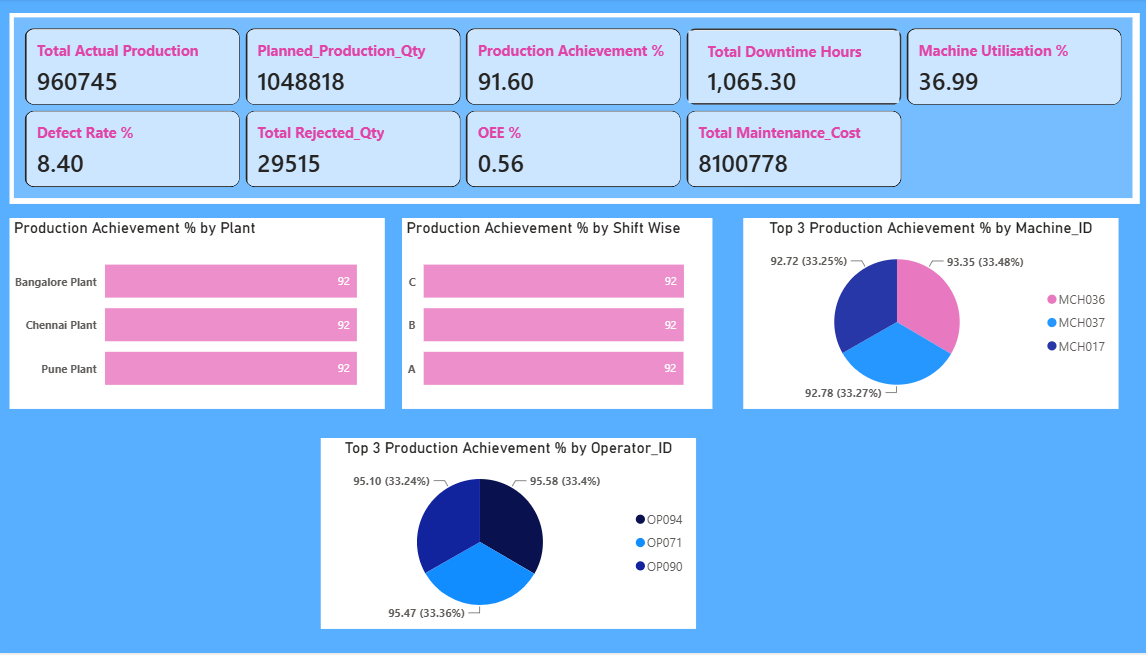

Layout of this report page (visuals, bound fields, positions):
{"tool":"powerbi","page":{"name":"Page 1","canvas":[1280,720],"ordinal":0},"visuals":[{"type":"cardVisual","fields":{"Data":["Production Log.Total Actual Production","Sum(Production Log.Planned_Production_Qty)","Production Log.Production Achievement %","Downtime Log.Total Downtime Hours","Downtime Log.Machine Utilisation %","Quality Inspection Log.Defect Rate %","Sum(Production Log.Rejected_Qty)","Shift Calendar.OEE","Sum(Maintenance Records.Maintenance_Cost)"]},"box":[19.2,16.5,1240.5,209.9],"z":0},{"type":"barChart","fields":{"Category":["Downtime Log.Plant"],"Y":["Production Log.Production Achievement %"]},"box":[18.5,240.9,411.9,209.5],"z":1000},{"type":"barChart","title":"Production Achievement % by Shift Wise","fields":{"Y":["Production Log.Production Achievement %"],"Category":["Shift Calendar.Shift"]},"box":[450.4,240.9,340.7,209.5],"z":2000},{"type":"pieChart","title":"Top 3 Production Achievement % by Machine_ID","fields":{"Y":["Production Log.Production Achievement %"],"Category":["Machine Master.Machine_ID"]},"box":[825.3,240.9,411.9,209.5],"z":3000},{"type":"pieChart","title":"Top 3 Production Achievement % by Operator_ID","fields":{"Y":["Production Log.Production Achievement %"],"Category":["Operator Master.Operator_ID"]},"box":[360.6,483.2,411.9,209.5],"z":4000}]}

Visuals, with their boxes in screenshot pixels (x1, y1, x2, y2), scaled from the page's 1280x720 canvas onto the 1146x655 screenshot:
cardVisual - Production Log.Total Actual Production x Sum(Production Log.Planned_Production_Qty): box=[17, 15, 1128, 206]
barChart - Downtime Log.Plant x Production Log.Production Achievement %: box=[17, 219, 385, 410]
"Production Achievement % by Shift Wise" barChart: box=[403, 219, 708, 410]
"Top 3 Production Achievement % by Machine_ID" pieChart: box=[739, 219, 1108, 410]
"Top 3 Production Achievement % by Operator_ID" pieChart: box=[323, 440, 692, 630]
